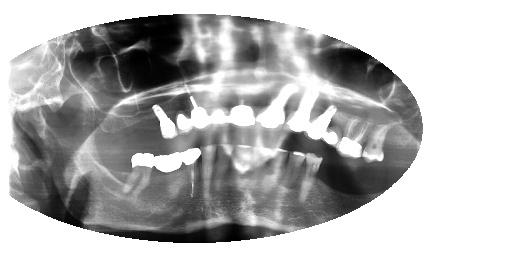i10healthy: (200, 142, 216, 198)
i11healthy: (183, 149, 203, 203)
i12loss: (155, 152, 182, 203)
i13healthy: (130, 152, 153, 197)
i1loss: (367, 178, 380, 198)
i2loss: (343, 178, 365, 202)
i3loss: (320, 174, 341, 202)
i4chipped: (301, 154, 326, 197)
i5decay: (286, 153, 308, 193)
i6healthy: (272, 150, 286, 190)
i7healthy: (255, 148, 272, 186)
i8healthy: (236, 145, 253, 183)
i9decay: (214, 143, 236, 192)
u10healthy: (189, 89, 211, 129)
u11loss: (175, 95, 190, 132)
u12healthy: (151, 96, 179, 139)
u13loss: (142, 100, 159, 139)
u14loss: (128, 109, 141, 140), (117, 154, 129, 184)
u15loss: (102, 156, 115, 184), (113, 120, 128, 144)
u16loss: (102, 119, 114, 146), (91, 154, 102, 178)
u1loss: (386, 130, 401, 161)
u2healthy: (360, 125, 385, 162)
u3healthy: (335, 120, 363, 157)
u4healthy: (323, 108, 338, 151)
u5healthy: (305, 102, 336, 138)
u6healthy: (286, 88, 317, 130)
u7healthy: (256, 79, 296, 128)
u8healthy: (229, 91, 256, 127)
u9healthy: (210, 89, 229, 128)
